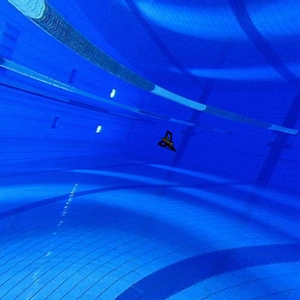submarine: (155, 128, 181, 157)
